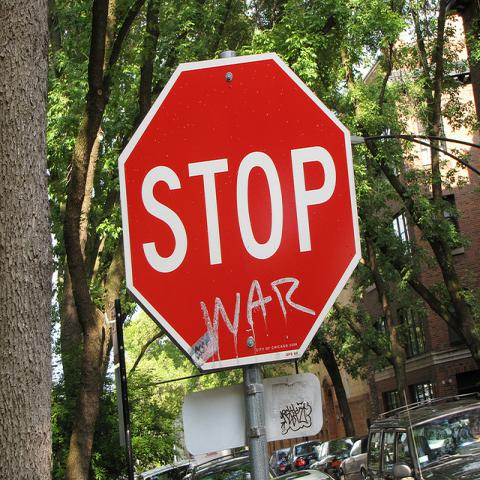car: (365, 391, 479, 479), (182, 450, 277, 479), (308, 436, 356, 479), (339, 435, 370, 479), (139, 458, 198, 479), (291, 438, 323, 472), (268, 447, 291, 477), (266, 470, 333, 479)
